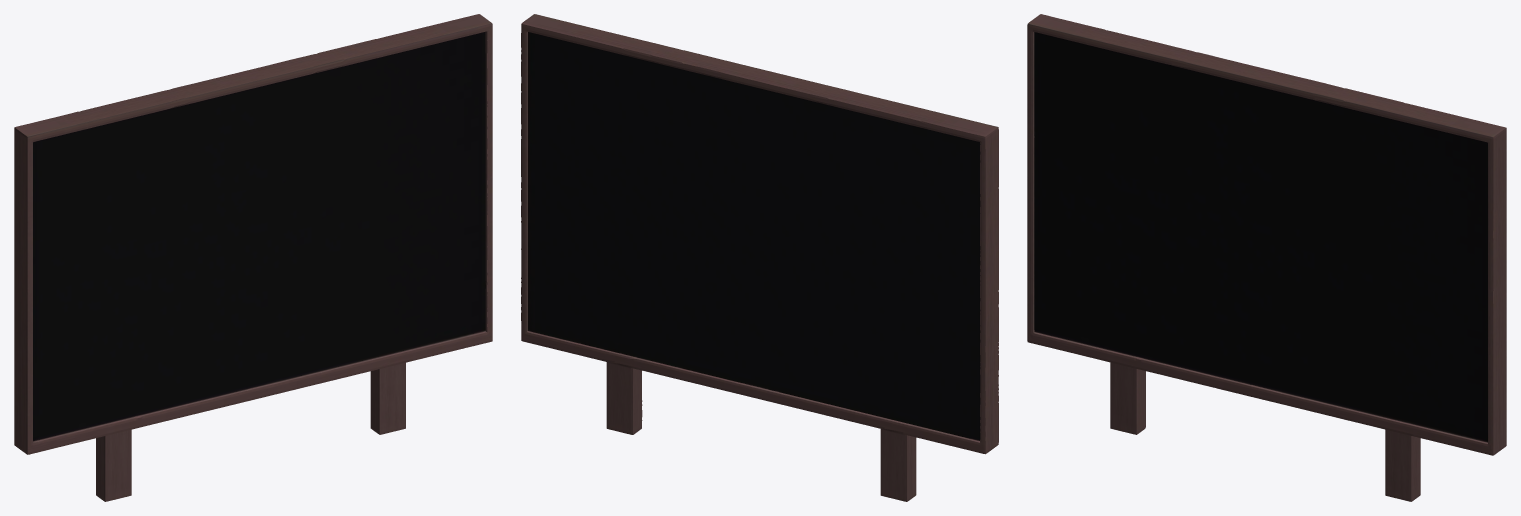
Rendered from display.glb.
3 renders of one model, left to right at view 1: azimuth 30°, elevation 25°; view 2: azimuth 150°, elevation 25°; view 3: azimuth 330°, elevation 25°, orthographic.
Visible parts, largest first — view 1: temp.1; view 2: temp.1; view 3: temp.1.
Part boxes in pixels (x1=…): temp.1: x1=14, y1=14, x2=492, y2=501; temp.1: x1=521, y1=14, x2=998, y2=501; temp.1: x1=1027, y1=14, x2=1506, y2=501.
Size of the model in its own units: 1.03 by 0.8161 by 0.0519.
Materials: 1 (1 with a texture image).
